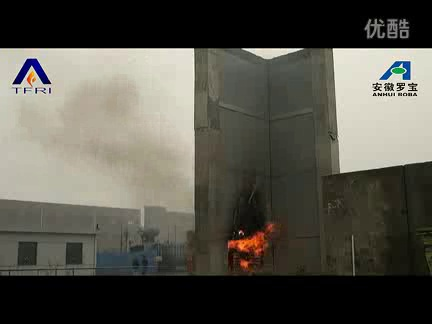fire: (223, 221, 281, 276)
